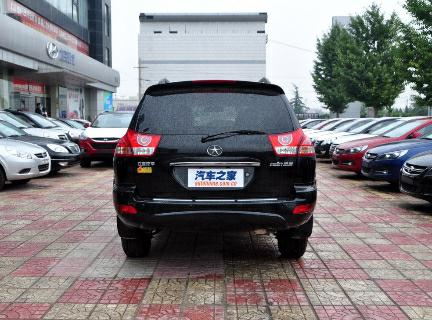江淮-瑞鹰: (106, 74, 323, 267)
